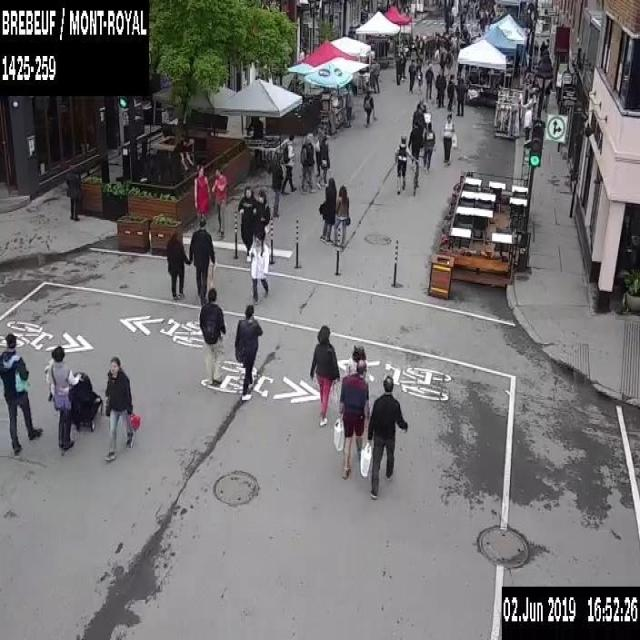pedestrian: (334, 343, 371, 488), (0, 329, 41, 452), (369, 376, 407, 504), (44, 344, 79, 459), (105, 355, 140, 469), (307, 324, 338, 423), (233, 303, 261, 400), (198, 287, 225, 383), (189, 214, 214, 304), (165, 230, 187, 300), (248, 232, 270, 302), (394, 134, 418, 196), (191, 166, 210, 235), (237, 183, 255, 253), (210, 167, 228, 237), (255, 186, 272, 256), (318, 177, 336, 242), (299, 132, 316, 192), (334, 183, 349, 244), (270, 151, 282, 214), (283, 132, 295, 193), (421, 121, 435, 171), (442, 113, 455, 163), (407, 120, 420, 169), (67, 166, 79, 218), (318, 135, 330, 186), (344, 84, 354, 123), (445, 72, 455, 110), (456, 76, 466, 114), (435, 68, 445, 105), (424, 63, 434, 99), (370, 57, 380, 91), (363, 90, 373, 124), (407, 58, 416, 92), (396, 51, 404, 84), (416, 64, 423, 93), (477, 8, 485, 32)
